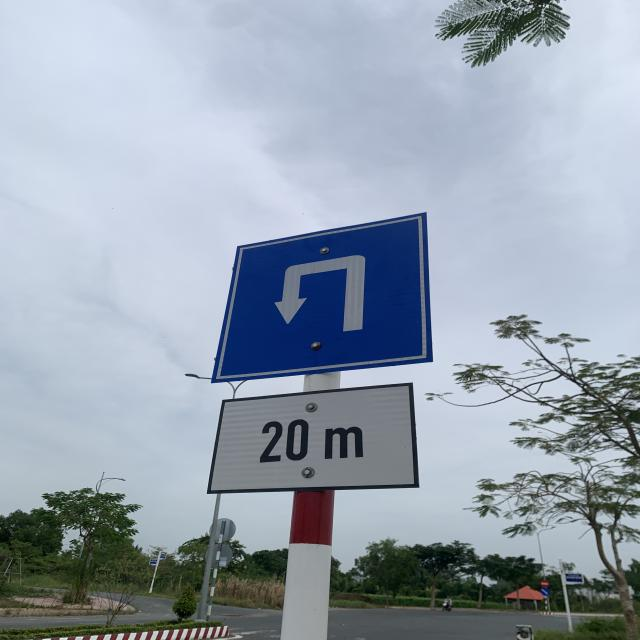Den_Giao_Thong: (216, 211, 440, 376)
